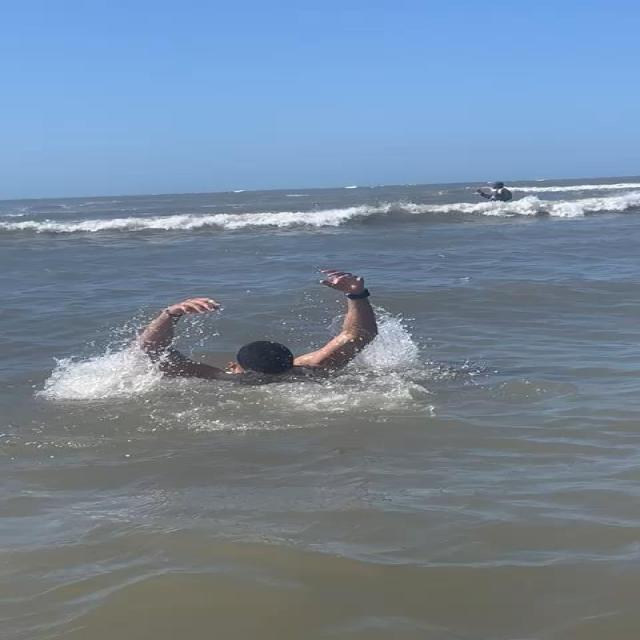Out of Water: (121, 264, 379, 382)
